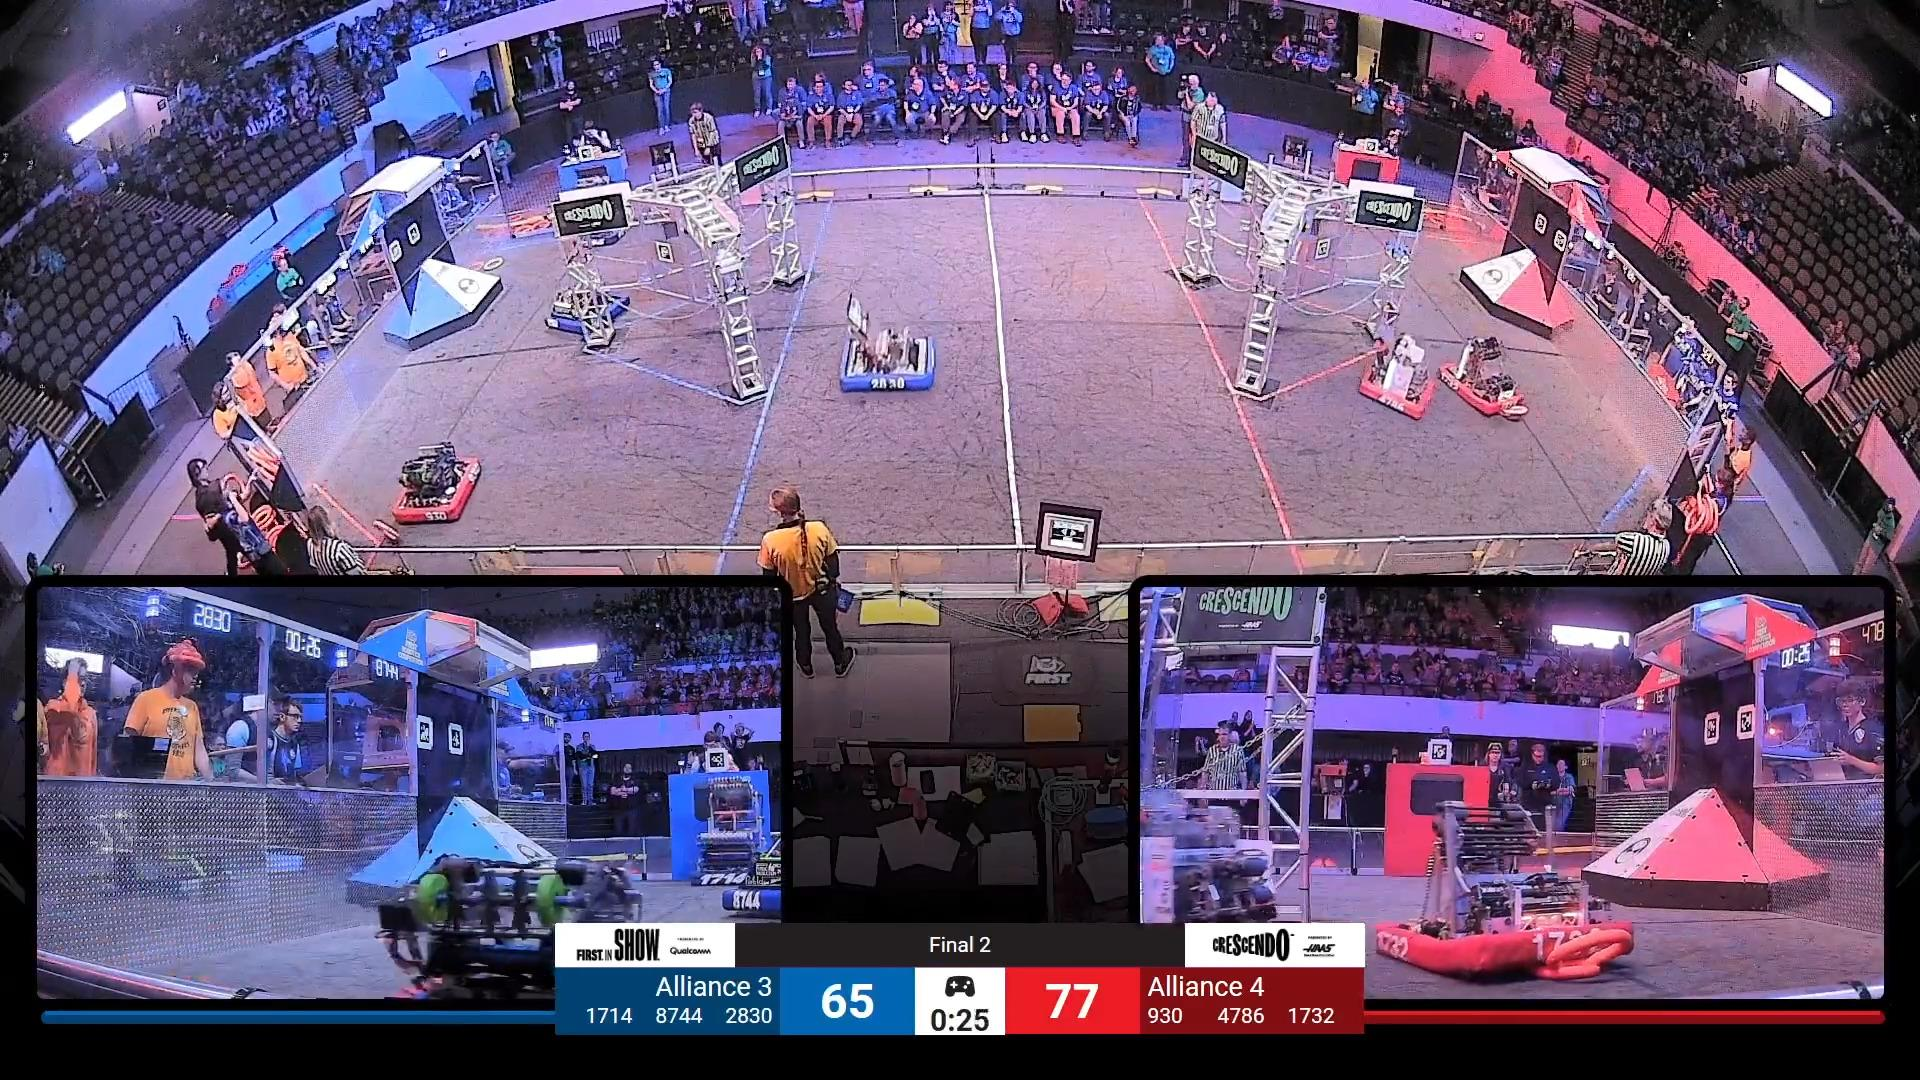robot: (1370, 793, 1630, 976), (839, 294, 940, 396), (1357, 314, 1436, 422), (1437, 336, 1527, 421), (392, 442, 484, 521), (545, 276, 632, 336), (717, 835, 781, 915), (572, 228, 628, 252)
